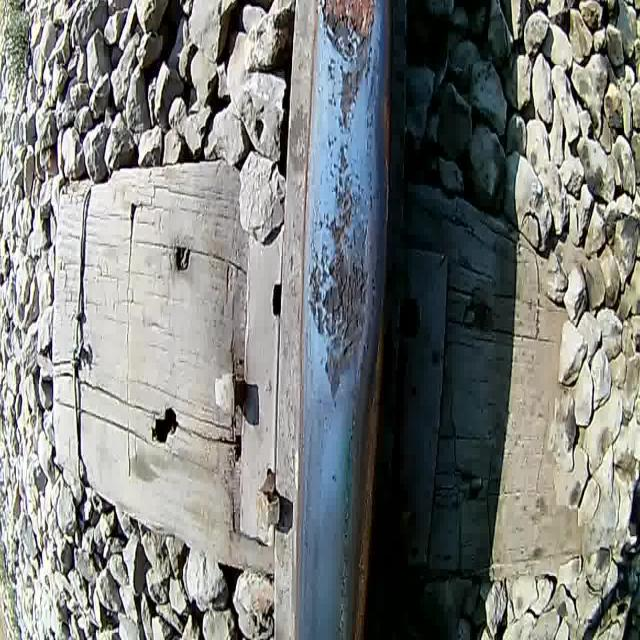Cracks: (363, 5, 375, 99)
Spallings: (303, 242, 375, 335), (317, 0, 378, 45)
Squats: (300, 139, 377, 414), (310, 0, 388, 135)
